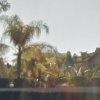Tree: (10, 11, 73, 68)
